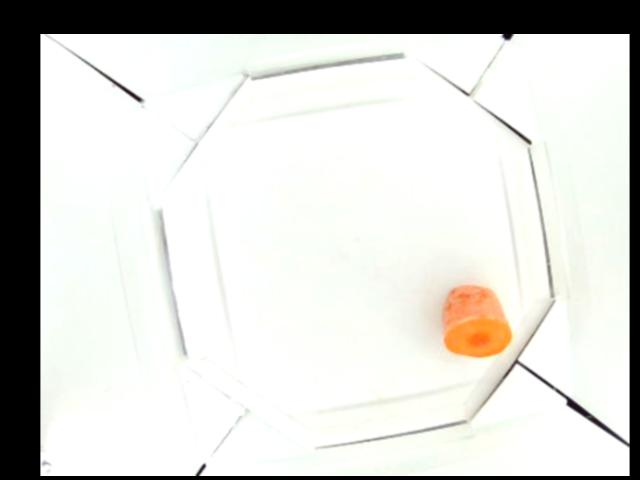Carrot: (440, 284, 513, 359)
